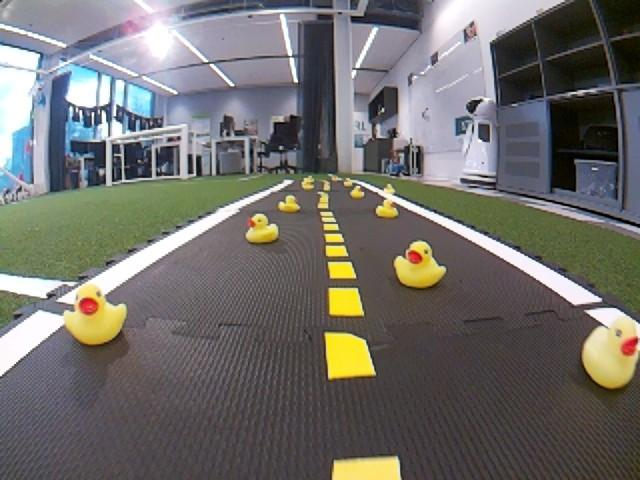Duckies: (582, 316, 639, 390), (62, 286, 126, 346), (393, 241, 447, 289), (246, 215, 278, 243), (376, 200, 399, 218), (280, 197, 301, 213), (350, 189, 363, 199), (383, 184, 394, 192), (302, 182, 313, 189), (303, 180, 314, 187), (344, 180, 352, 186), (306, 177, 313, 182)
